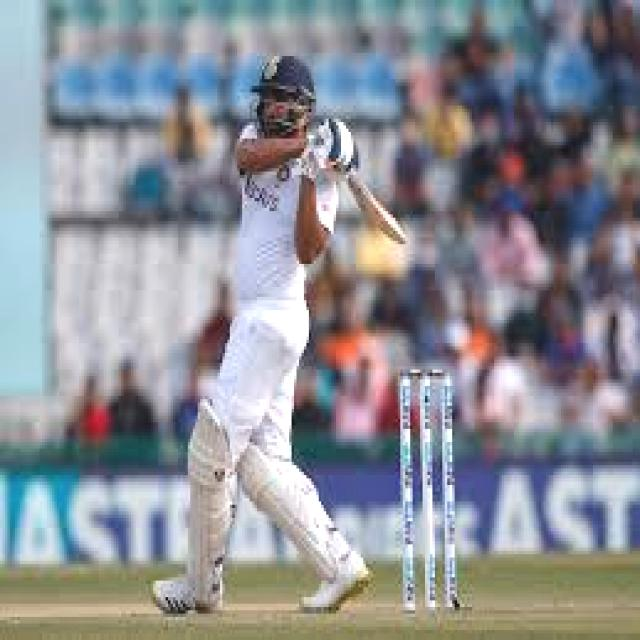toe: (378, 226, 407, 249)
